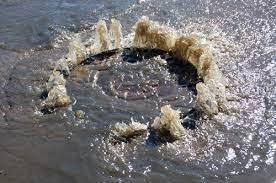drainage overflow-repair-: (23, 13, 248, 164)
